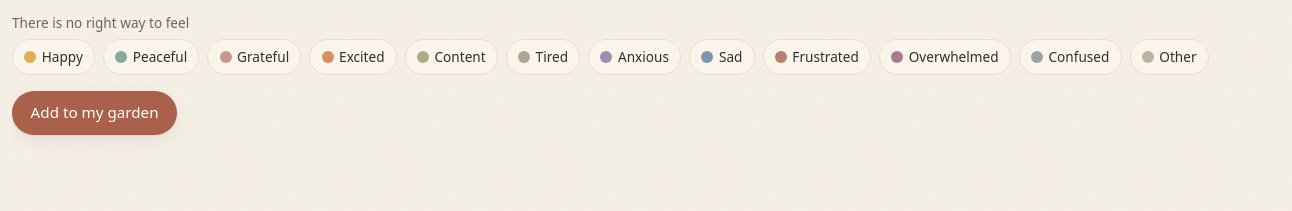
Test: MoodCheckInForm › asks for a feeling before saving, then posts the check-in
This screenshot has width=1292, height=211.
Later steps or results of the test are not shown.
Click the button "Add to my garden" at (95, 112), box 12,90 -> 177,134
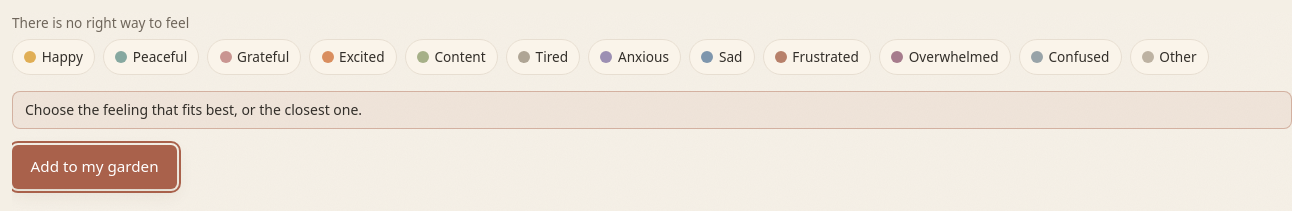
Now the message shows "Choose the feeling", box 25,100 -> 362,118
